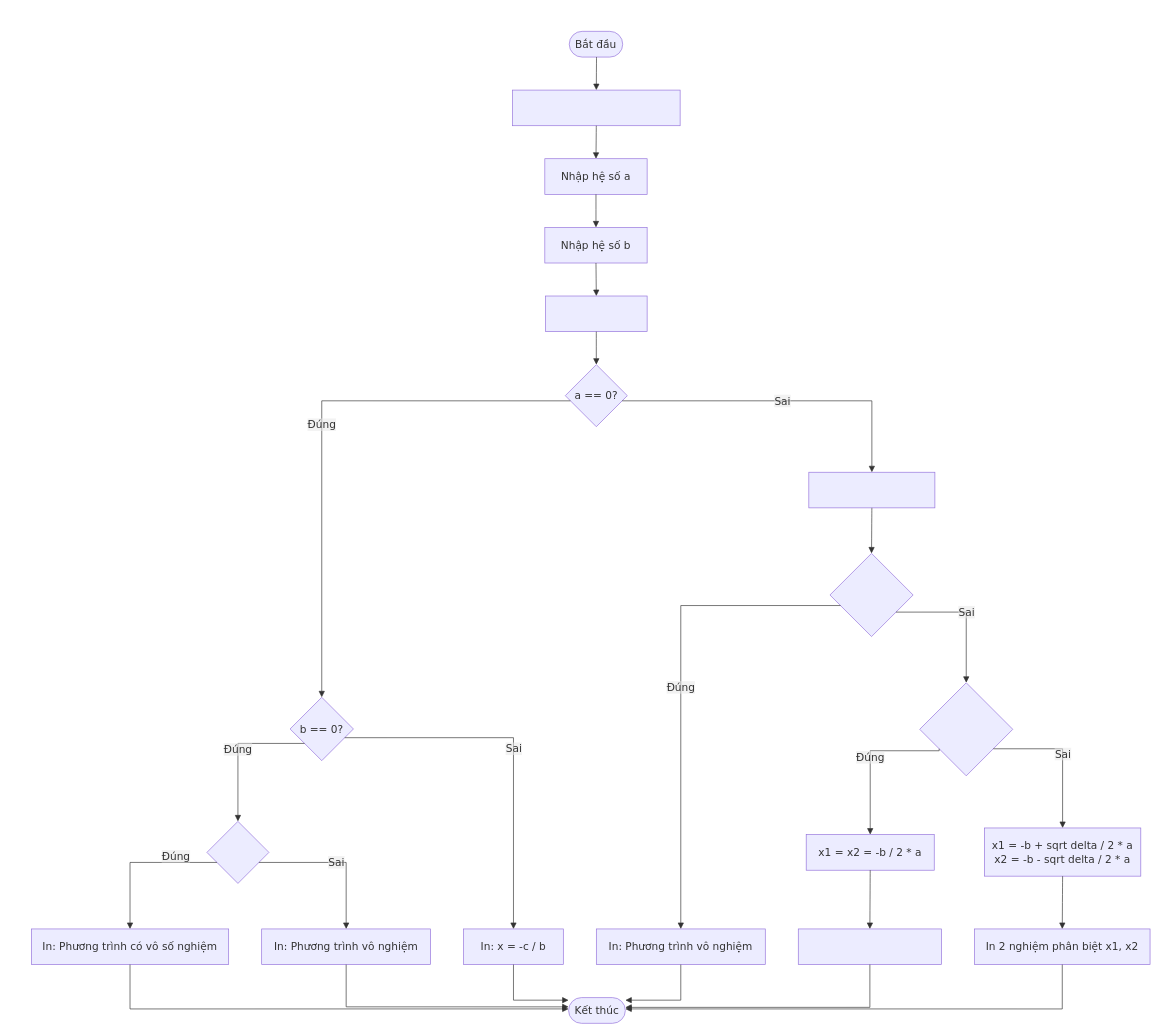
Some shapes in this 1162 by 1035 pixel diagram are drawn without their labels. Here are the shapes that lost their labels. From the top down, the centre of each, then its label:
At [596,107]: "In tiêu đề: GIAI PT BAC HAI".
At [596,313]: "Nhập hệ số c".
At [871,490]: "delta = b^2 - 4 a c".
At [871,595]: "delta < 0?".
At [966,729]: "delta == 0?".
At [237,852]: "c == 0?".
At [869,946]: "In nghiệm kép x1 = x2".
